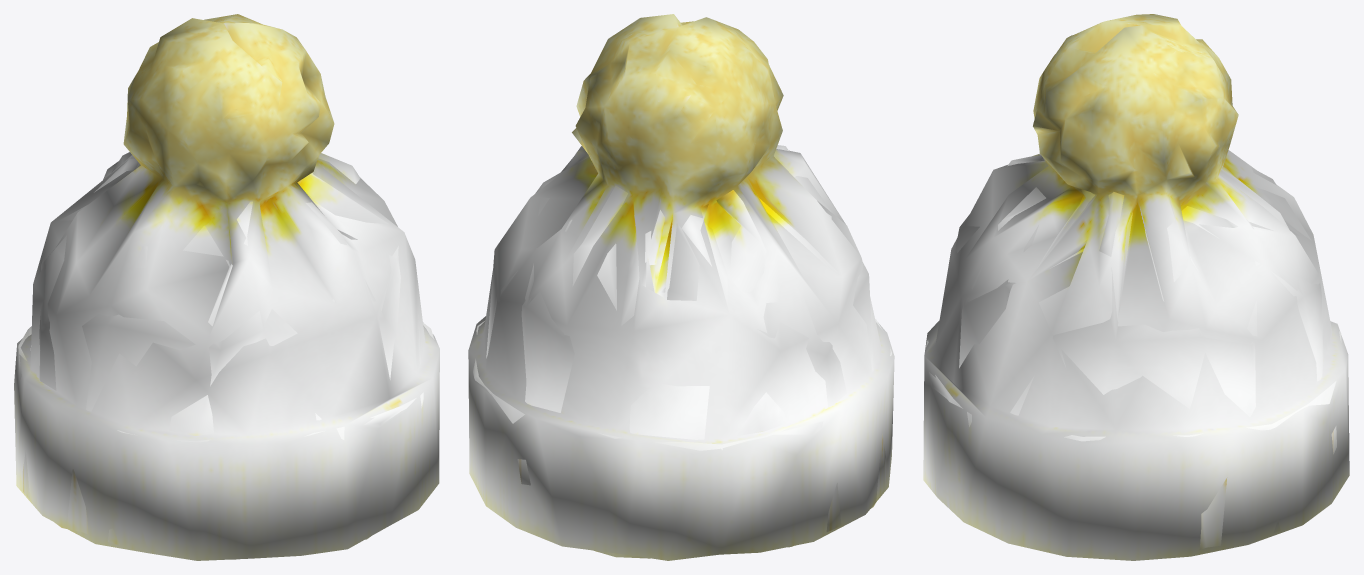
The model's file is hat-beanie.glb.
The picture shows the model from 3 angles, left to right: view 1: azimuth 30°, elevation 25°; view 2: azimuth 150°, elevation 25°; view 3: azimuth 270°, elevation 25°; orthographic projection.
Parts seen in each view (by area): view 1: Body; view 2: Body; view 3: Body.
Boxes of the visible parts, bbox=[...] form: Body: bbox=[14, 14, 439, 560]; Body: bbox=[468, 14, 894, 560]; Body: bbox=[923, 14, 1349, 560].
Bounding box in the file's own units: 0.7947 × 0.9319 × 0.7946.
Materials: 1 (1 with a texture image).
